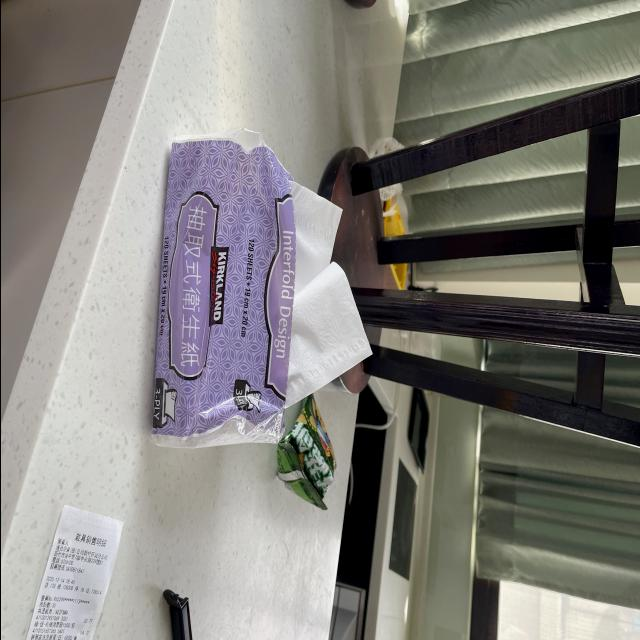tissue: (148, 119, 374, 459)
